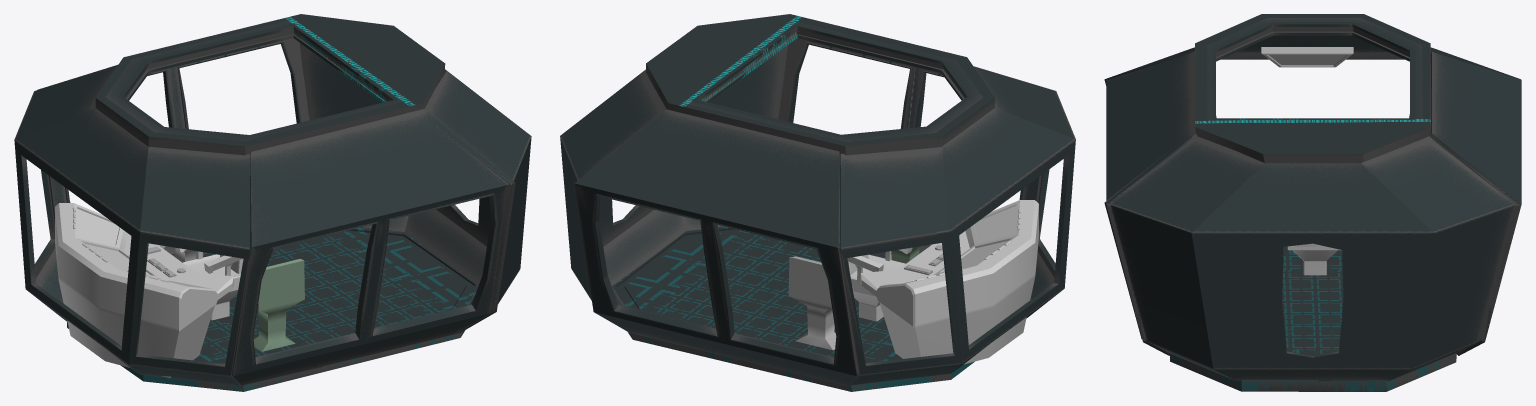
Rendered from EXP_1.fbx.
3 renders of one model, left to right at view 1: azimuth 30°, elevation 25°; view 2: azimuth 150°, elevation 25°; view 3: azimuth 270°, elevation 25°, orthographic. The views are drawn at different scales.
Parts seen in each view (by area): view 1: polySurface26, Front_Wall, Ceiling, Floor, Rear_wall, polySurface43, polySurface39, pasted__pCube4, Chair2, polySurface42, polySurface44; view 2: polySurface39, Front_Wall, Ceiling, Floor, Rear_wall, polySurface43, polySurface26, power_grid, Chair2, polySurface41, polySurface44; view 3: Rear_wall, Ceiling, polySurface39, polySurface26, Floor, Front_Wall, pCube6, Chair2.
Part boxes in pixels (x1,y1,x2,y2): polySurface26: [232, 108, 515, 385]; Front_Wall: [14, 66, 251, 386]; Ceiling: [95, 14, 445, 155]; Floor: [67, 227, 478, 391]; Rear_wall: [299, 43, 531, 333]; polySurface43: [55, 203, 233, 378]; polySurface39: [37, 38, 309, 254]; pasted__pCube4: [253, 259, 304, 351]; Chair2: [176, 248, 243, 320]; polySurface42: [74, 203, 123, 248]; polySurface44: [75, 238, 160, 278]; polySurface39: [574, 109, 858, 385]; Front_Wall: [839, 66, 1075, 385]; Ceiling: [645, 14, 994, 154]; Floor: [612, 226, 974, 391]; Rear_wall: [560, 45, 788, 305]; polySurface43: [860, 200, 1038, 364]; polySurface26: [778, 38, 1041, 253]; power_grid: [788, 256, 853, 350]; Chair2: [847, 247, 912, 321]; polySurface41: [970, 200, 1019, 244]; polySurface44: [933, 235, 1018, 275]; Rear_wall: [1104, 136, 1515, 381]; Ceiling: [1195, 14, 1431, 163]; polySurface39: [1430, 52, 1521, 355]; polySurface26: [1106, 52, 1196, 355]; Floor: [1170, 246, 1456, 391]; Front_Wall: [1104, 35, 1521, 118]; pCube6: [1261, 47, 1353, 67]; Chair2: [1287, 243, 1341, 275].
Bounding box in the file's own units: 4794 × 2719 × 4574.
